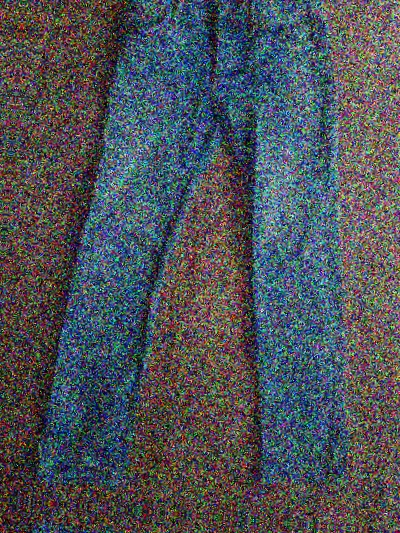Pants: (19, 0, 400, 511), (0, 520, 358, 533)
